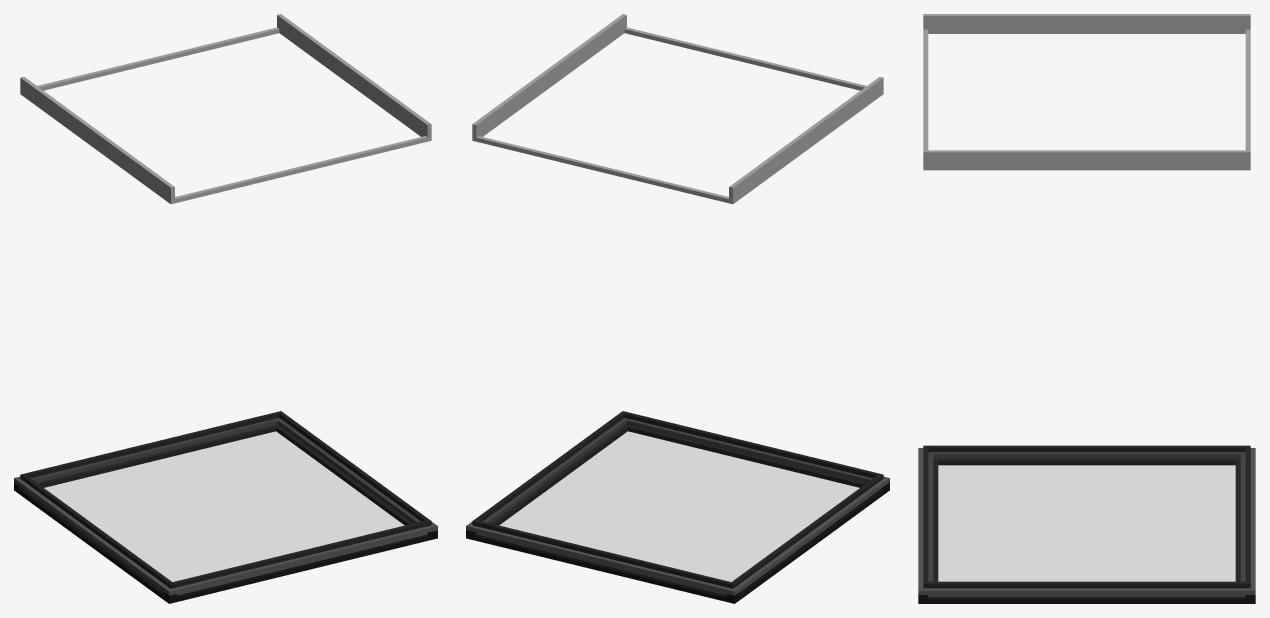
File: PictureFrameBlack.obj
The picture shows the model from 3 angles, left to right: view 1: azimuth 30°, elevation 25°; view 2: azimuth 150°, elevation 25°; view 3: azimuth 270°, elevation 25°; orthographic projection. The views are drawn at different scales.
Bounding box in the file's own units: 68 × 100 × 68.
1 material, 1 textured.
